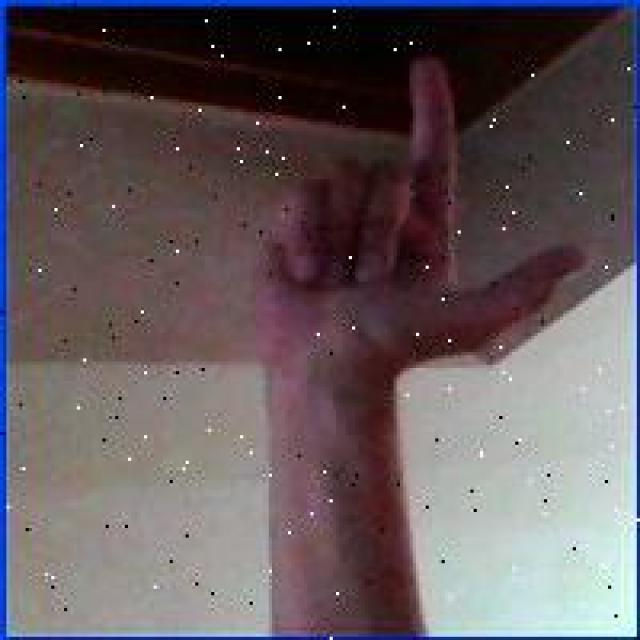L: (235, 51, 594, 384)
